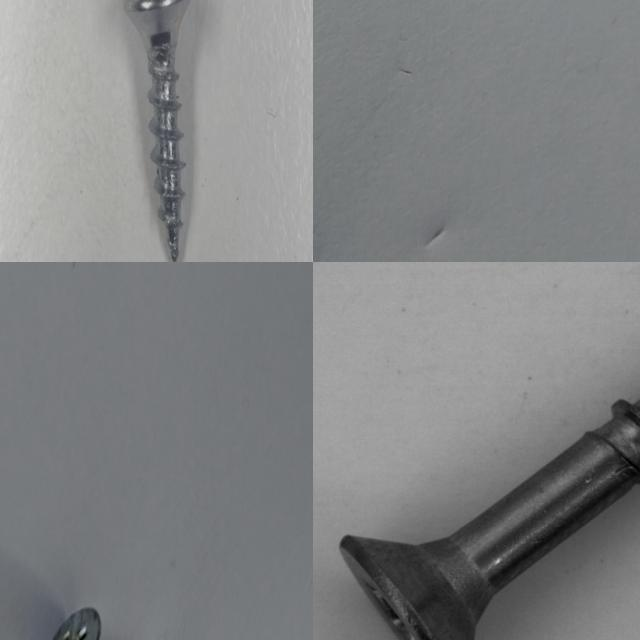Screw: (313, 262, 640, 640), (125, 0, 189, 262)
